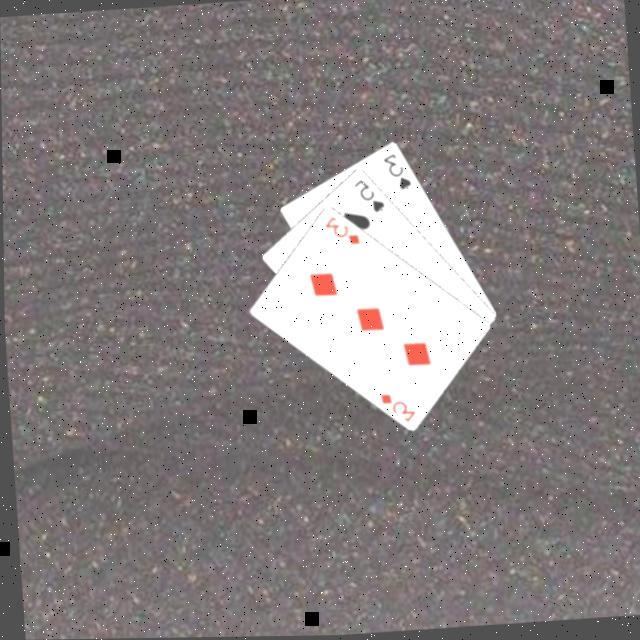3D: (322, 213, 364, 251), (377, 390, 419, 428)
3S: (381, 151, 416, 195)
5S: (352, 176, 390, 218)
